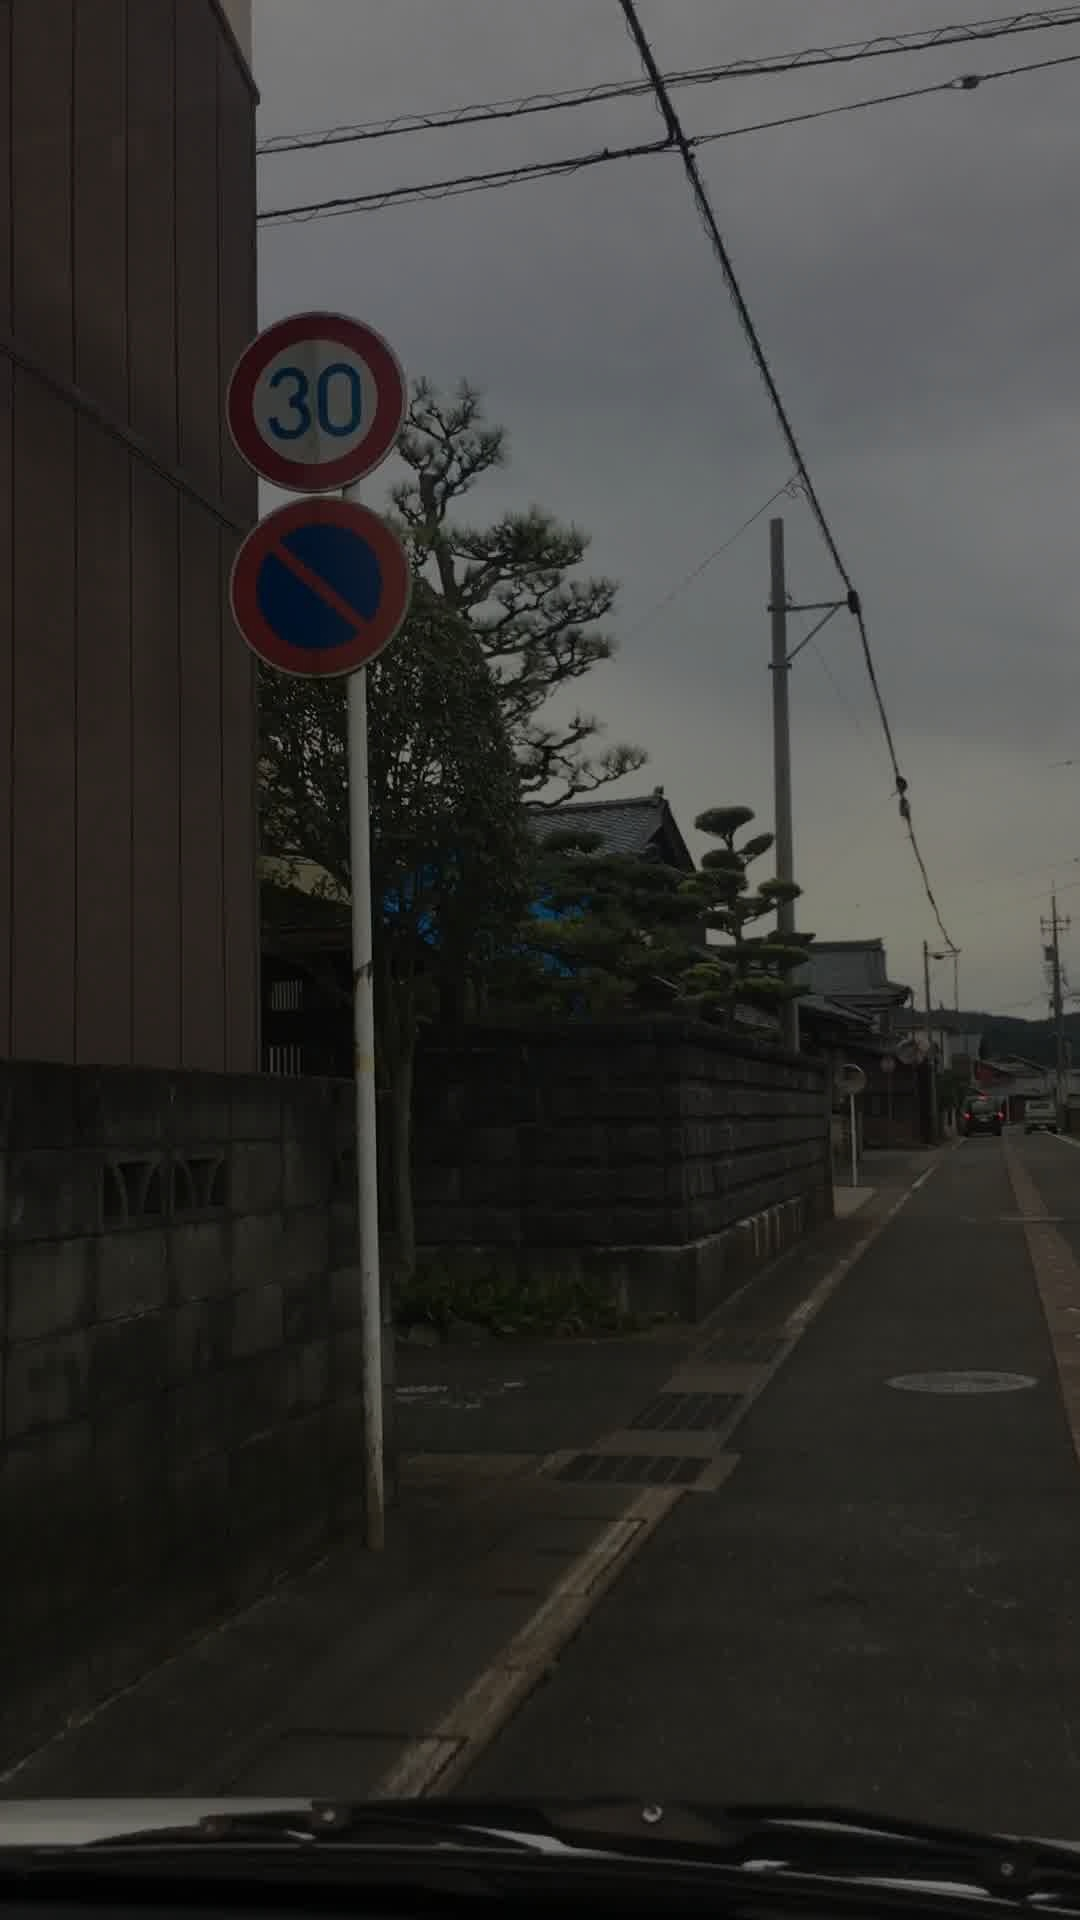Prohibition_sign: (236, 502, 434, 654)
Speed_sign: (225, 316, 407, 484)
